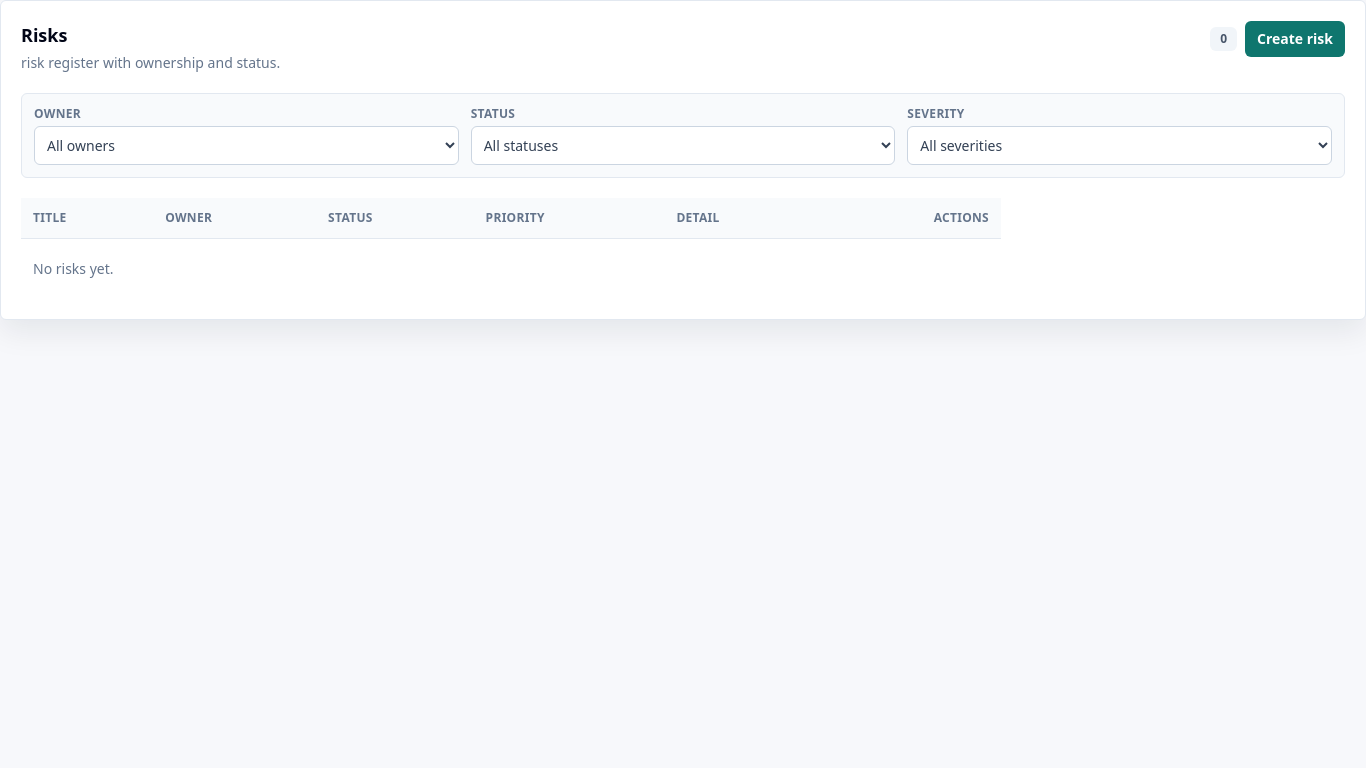
AppModal usability › keeps RAID save actions in the sticky footer
Click the button "Create risk" at {"x": 1295, "y": 39}, box left=1245, top=21, right=1345, bottom=57
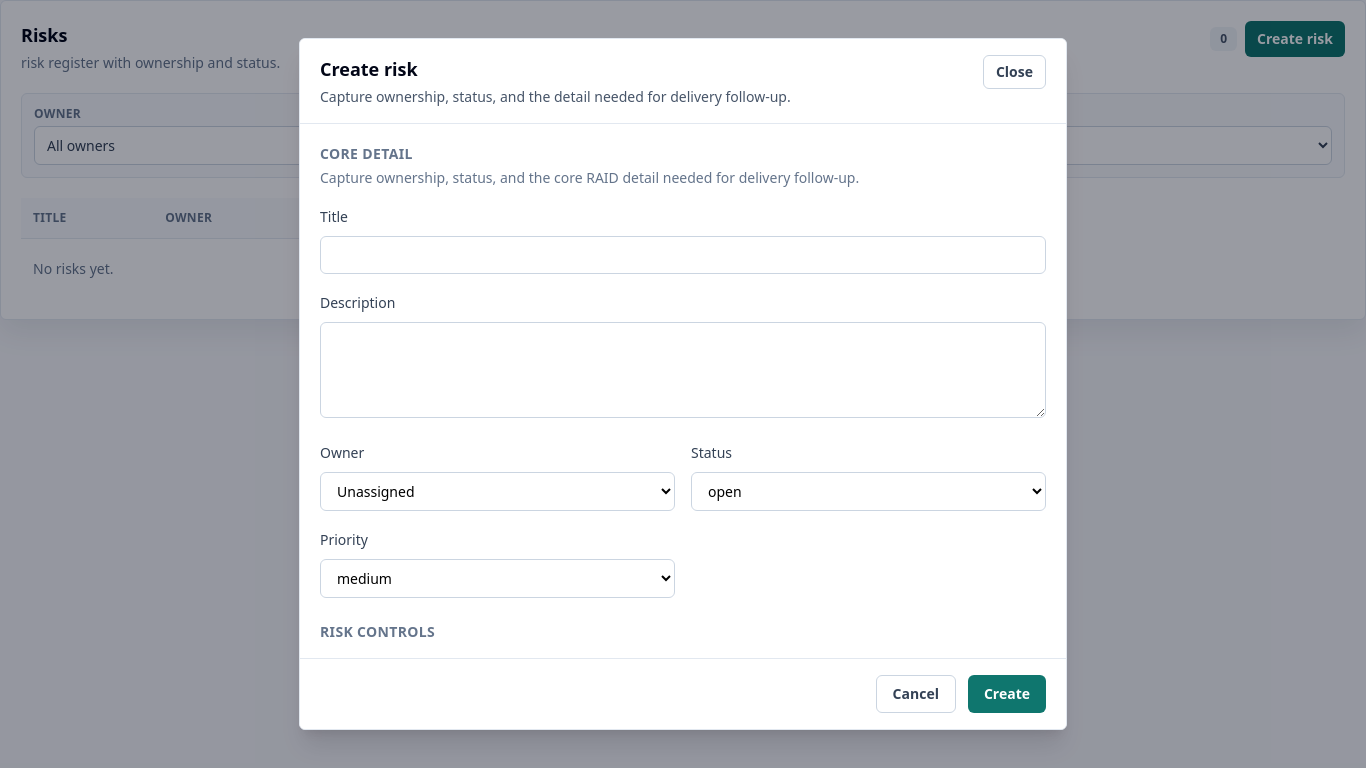
Expected: the button "Create" is shown, left=968, top=675, right=1046, bottom=713
Expected: the button "Cancel" is shown, left=876, top=675, right=956, bottom=713
